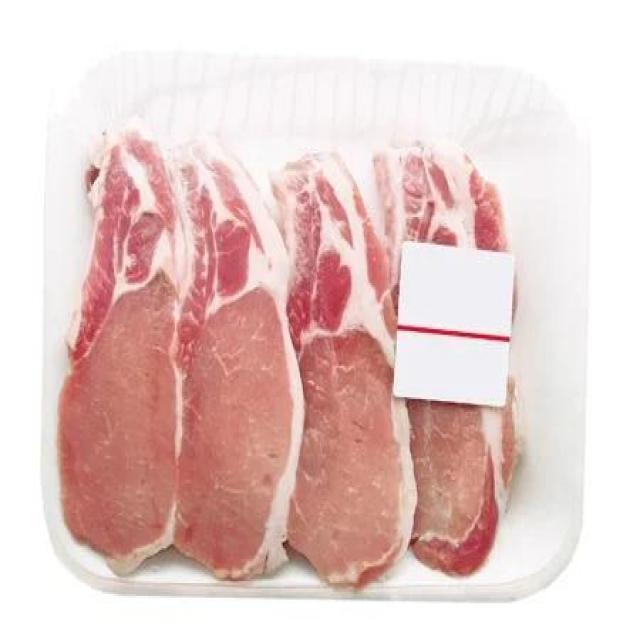pork: (50, 118, 207, 578), (162, 111, 309, 577), (285, 138, 419, 581)
